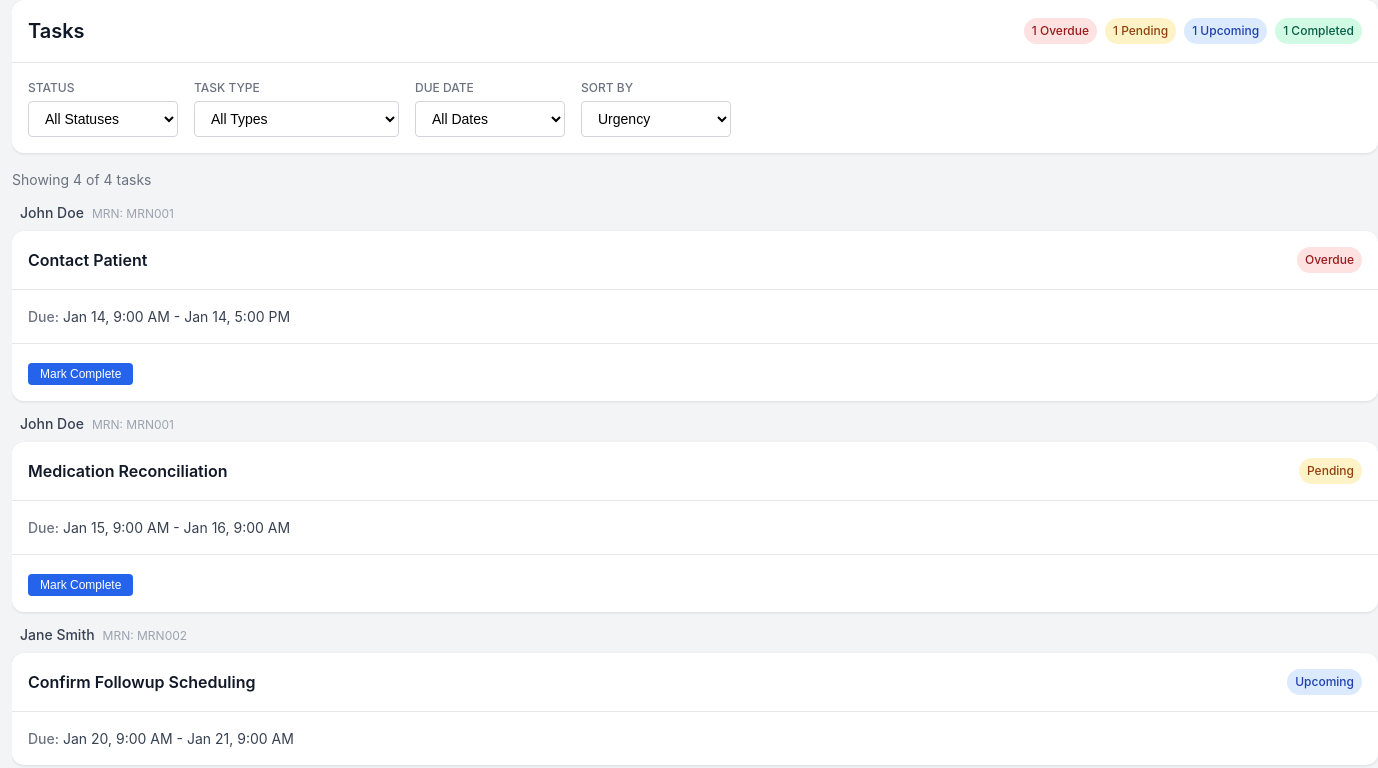
Test: TaskListView › filters › filters by task type
Select "Medication Reconciliation" in the dropdown labelled "Task Type" at (296, 119), box [194,101,399,137]
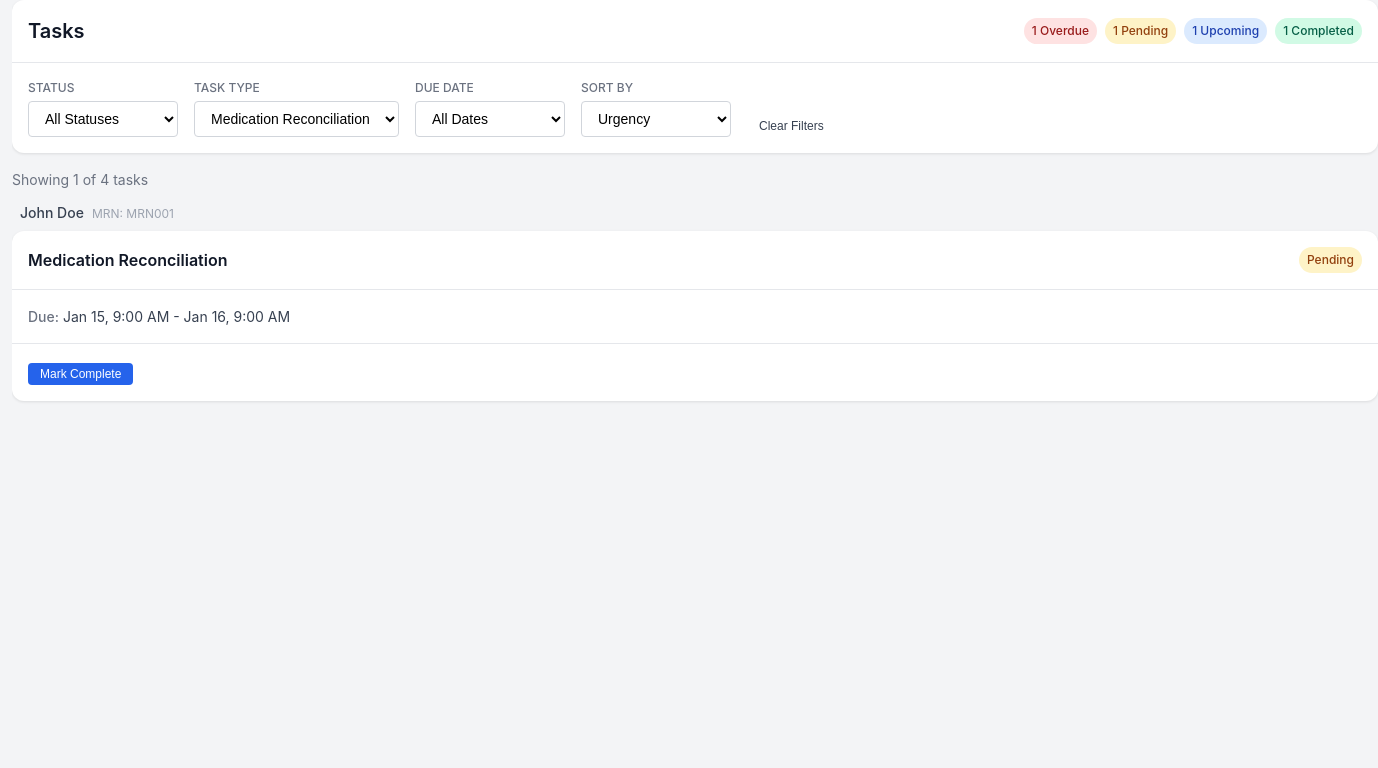
Expected: the text "Medication Reconciliation" is shown, [28,248,227,272]
Expected: the text "Showing 1 of 4 tasks" is shown, [12,171,148,188]
